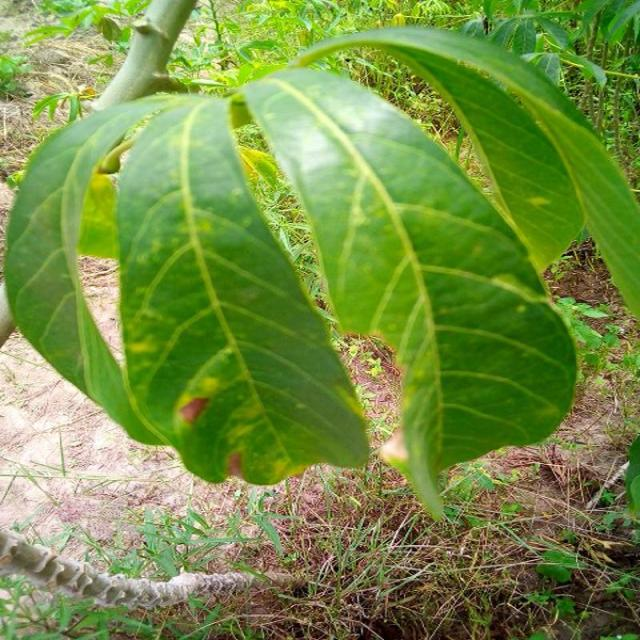cassava leaf: (241, 64, 579, 519), (286, 22, 640, 319), (115, 94, 372, 486), (4, 91, 210, 448)
